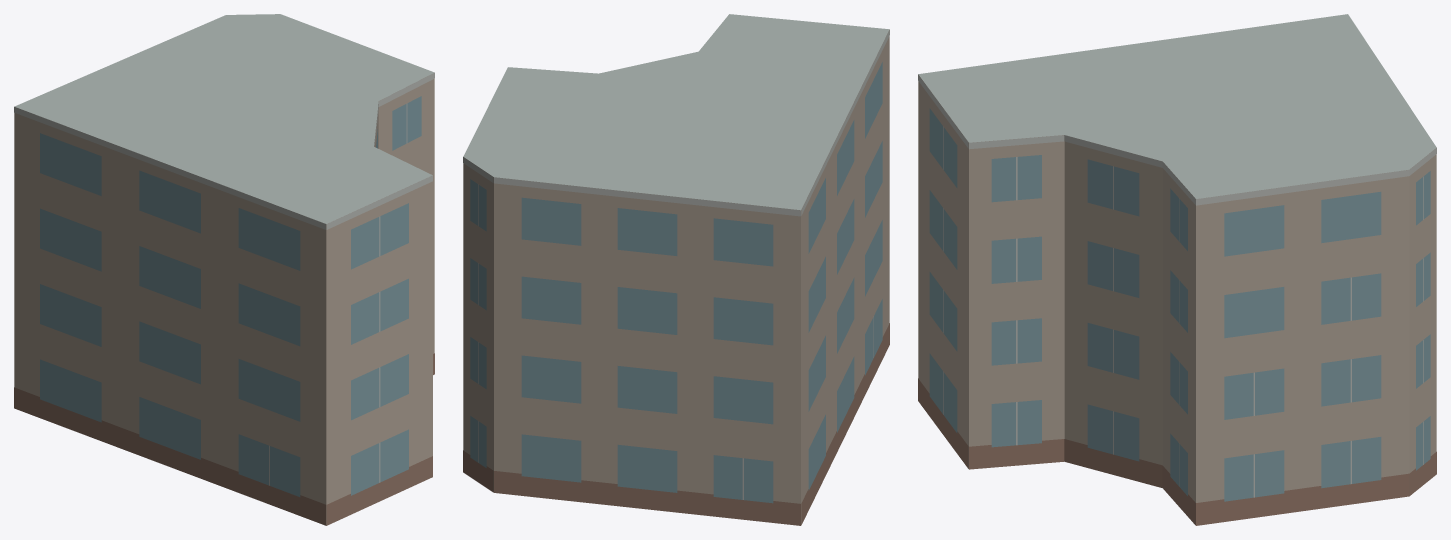
The model's file is survey-upis-32857080.glb.
3 renders of one model, left to right at view 1: azimuth 30°, elevation 25°; view 2: azimuth 150°, elevation 25°; view 3: azimuth 270°, elevation 25°, orthographic. The views are drawn at different scales.
Parts seen in each view (by area): view 1: survey-upis-32857080.tmp; view 2: survey-upis-32857080.tmp; view 3: survey-upis-32857080.tmp.
Boxes of the visible parts, x1,y1,x2,y2 form: survey-upis-32857080.tmp: [14, 14, 434, 525]; survey-upis-32857080.tmp: [463, 14, 889, 525]; survey-upis-32857080.tmp: [918, 14, 1436, 525].
Size of the model in its own units: 14.96 by 12.3 by 17.71.
